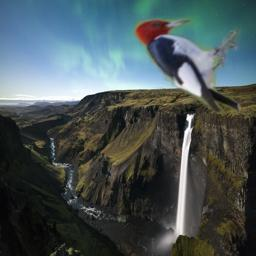Woodpecker: (131, 15, 245, 114)
